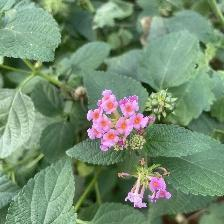common lanthana: (88, 86, 154, 154)
